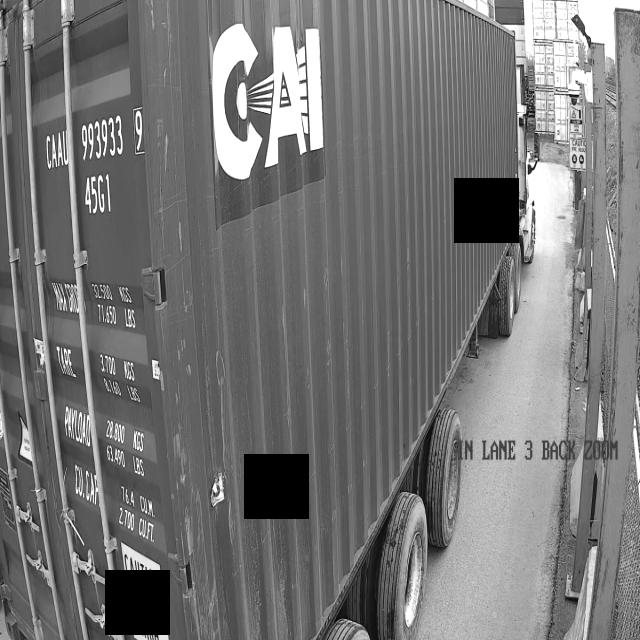container_number: (46, 114, 179, 639)
truck_with_container: (0, 0, 534, 640)
